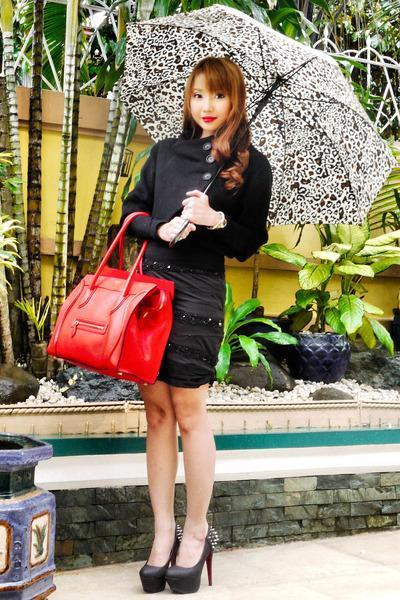bag: (43, 228, 174, 384)
shirt: (121, 132, 276, 275)
shoe: (139, 564, 204, 599)
shorts: (142, 254, 225, 387)
